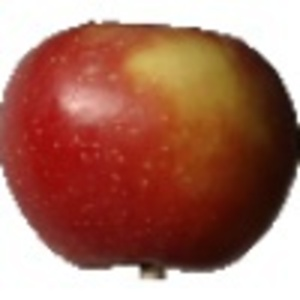maçã braeburn: (1, 16, 300, 274)
